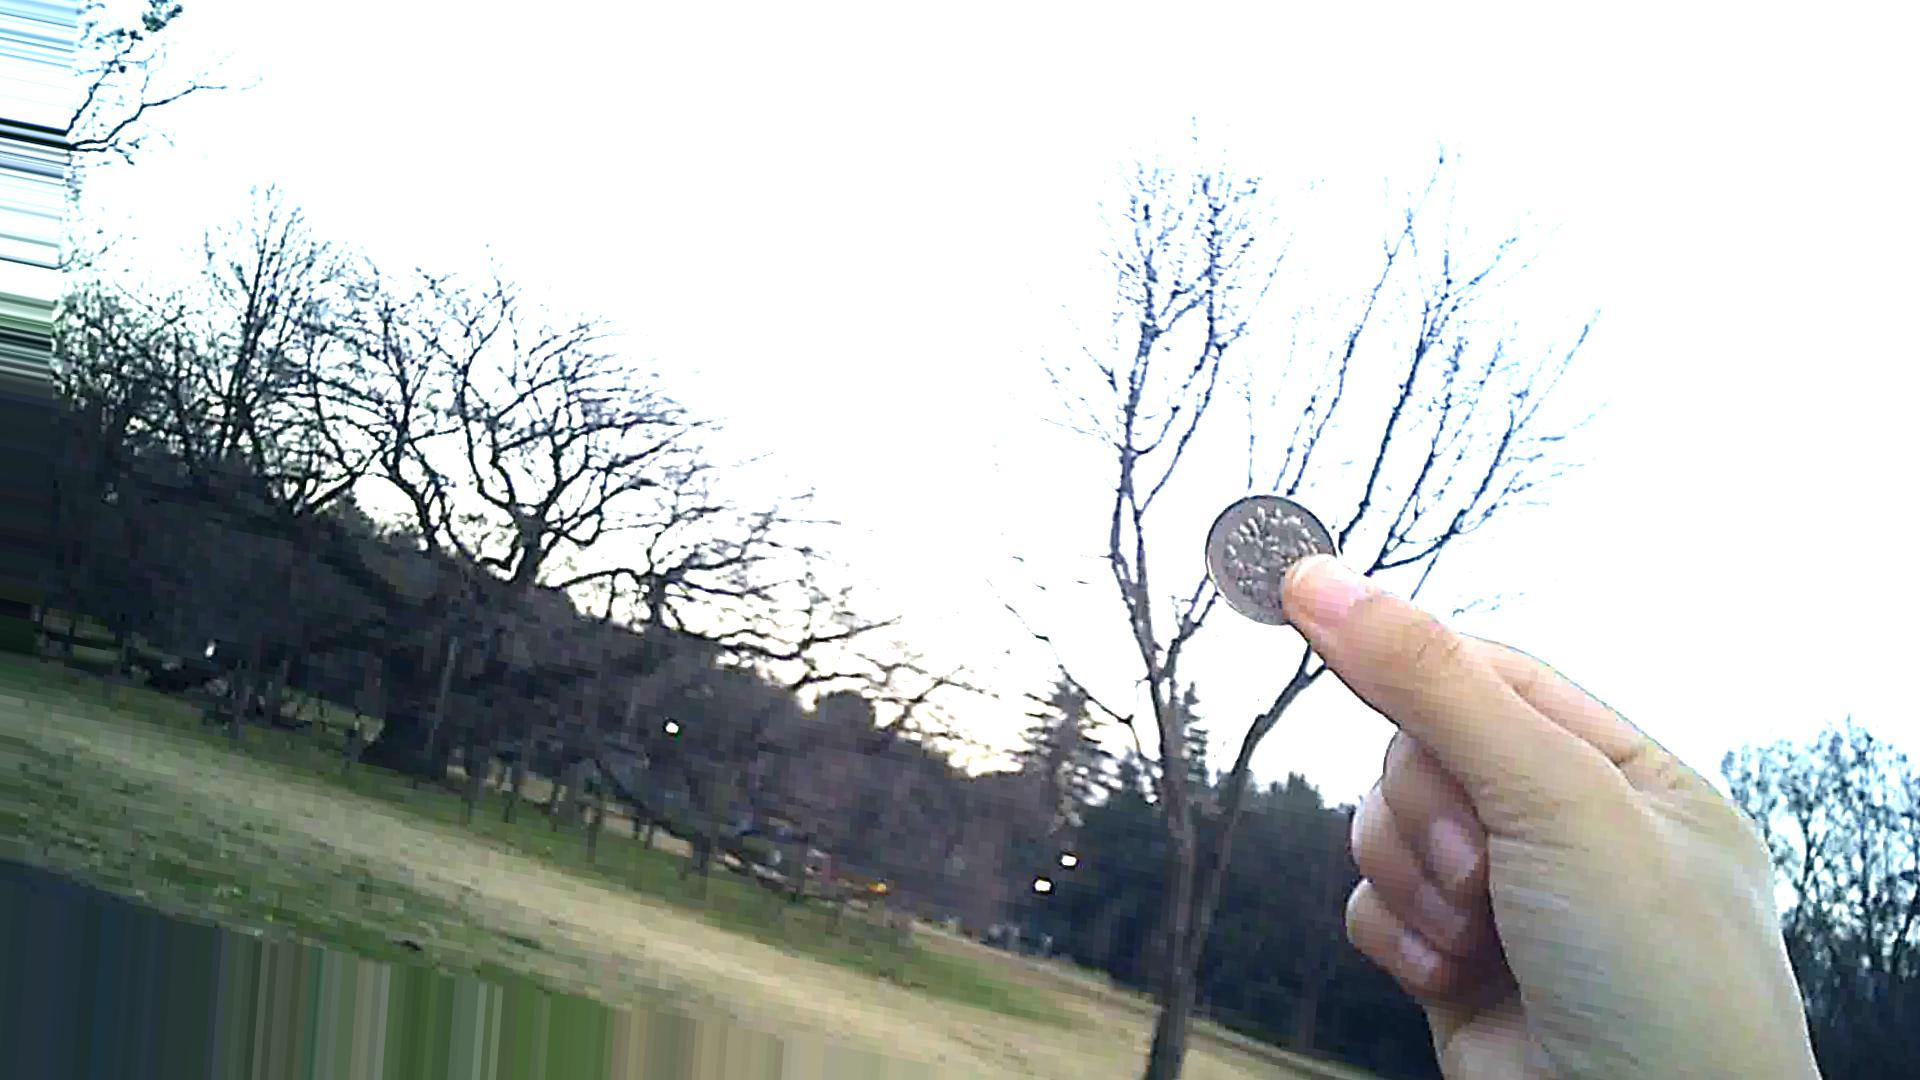100 Yen: (1200, 489, 1333, 628)
